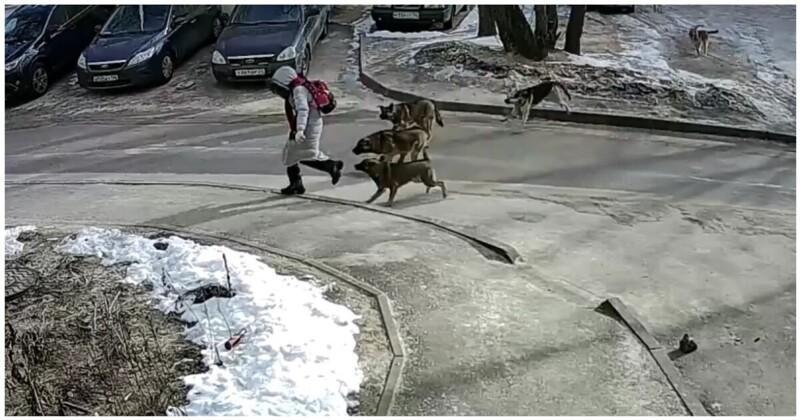normal_dogs: (355, 156, 449, 207), (505, 78, 574, 133), (353, 128, 429, 164), (378, 100, 446, 137), (687, 23, 720, 59)
